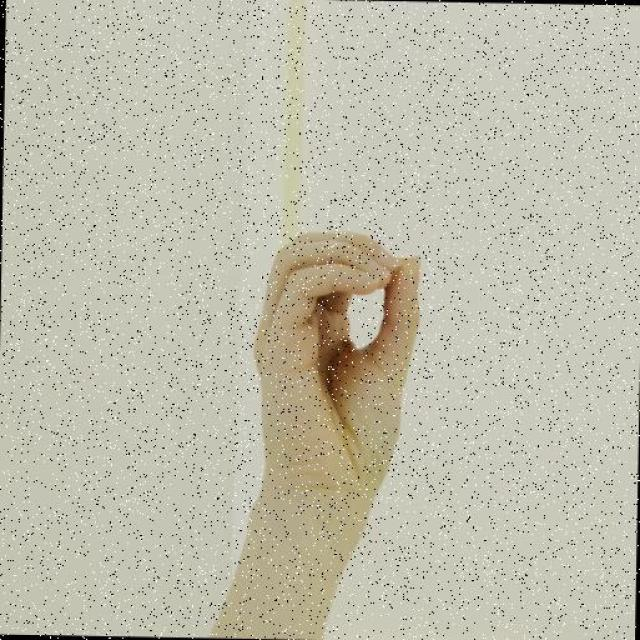O: (247, 224, 427, 497)
